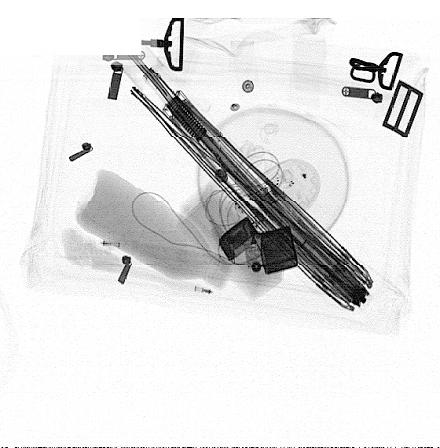Lighter: (218, 215, 299, 275)
